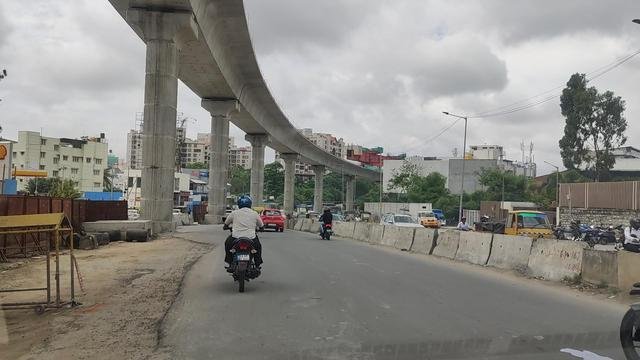LMV: (225, 195, 262, 290), (317, 207, 334, 238)
RoadDamages: (141, 276, 191, 357), (175, 231, 216, 275)
UnsurfacedRoad: (73, 246, 143, 355)
